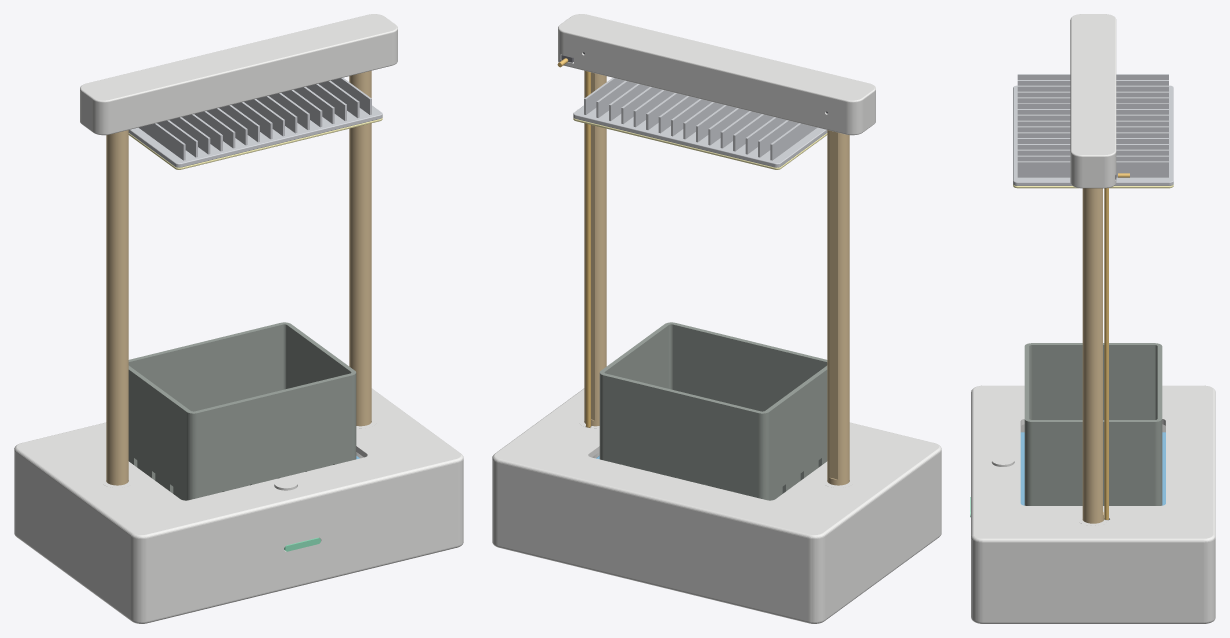
Rendered from opencanopy-v1.glb.
3 renders of one model, left to right at view 1: azimuth 30°, elevation 25°; view 2: azimuth 150°, elevation 25°; view 3: azimuth 270°, elevation 25°, orthographic. The views are drawn at different scales.
Parts seen in each view (by area): view 1: base, grow_insert, light_block, heatsink, pillar_left, pillar_right, led_panel; view 2: base, grow_insert, light_block, heatsink, pillar_left, pillar_right, cable, led_panel; view 3: base, grow_insert, heatsink, light_block, pillar_right, cable, reservoir, led_panel.
Boxes of the visible parts, box(x1,y1,x2,y2) form: base: box(14, 388, 463, 623); grow_insert: box(128, 322, 356, 500); light_block: box(80, 14, 397, 135); heatsink: box(128, 77, 382, 167); pillar_left: box(106, 130, 128, 485); pillar_right: box(349, 70, 371, 426); led_panel: box(128, 118, 382, 169); base: box(492, 388, 941, 623); grow_insert: box(599, 322, 827, 500); light_block: box(558, 14, 875, 135); heatsink: box(573, 77, 827, 167); pillar_left: box(827, 130, 849, 485); pillar_right: box(584, 70, 606, 427); cable: box(557, 58, 590, 427); led_panel: box(573, 118, 827, 169); base: box(971, 385, 1215, 623); grow_insert: box(1024, 343, 1162, 505); heatsink: box(1013, 74, 1173, 185); light_block: box(1070, 14, 1116, 188); pillar_right: box(1082, 188, 1103, 523); cable: box(1104, 173, 1129, 519); reservoir: box(1020, 432, 1165, 505); led_panel: box(1013, 184, 1173, 188).
Bounding box in the file's own units: 480 × 680 × 321.
